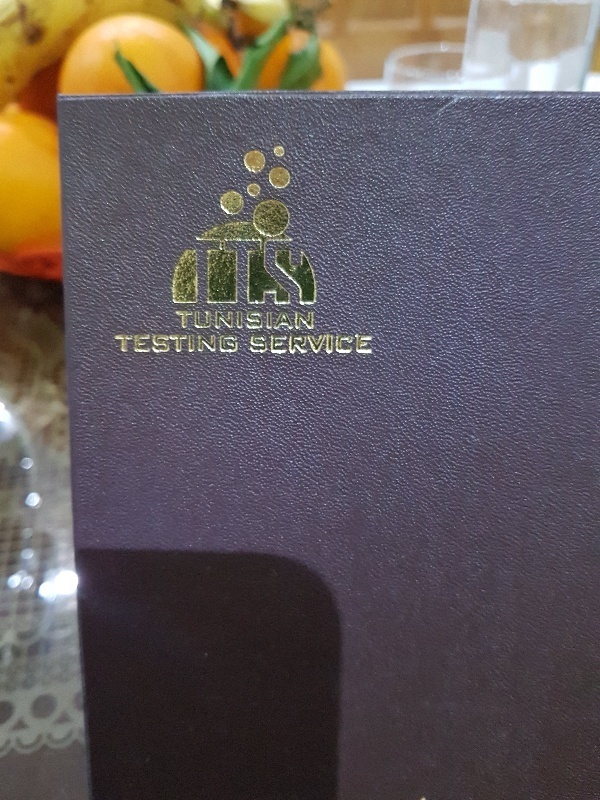text: (129, 333, 144, 354), (145, 333, 160, 354), (161, 333, 176, 354), (177, 333, 192, 354), (193, 333, 208, 354), (209, 333, 224, 354), (257, 335, 272, 355), (273, 335, 288, 355), (289, 335, 304, 355), (305, 335, 320, 355), (321, 335, 336, 355), (337, 335, 352, 355), (353, 335, 368, 355), (177, 311, 192, 330), (193, 311, 208, 330), (209, 311, 224, 330), (225, 311, 240, 330), (241, 311, 256, 330), (257, 311, 272, 330), (273, 311, 288, 330), (289, 311, 304, 330), (115, 333, 128, 354), (225, 333, 238, 354), (305, 311, 315, 330), (251, 335, 256, 355), (369, 335, 374, 355), (175, 311, 176, 330)
